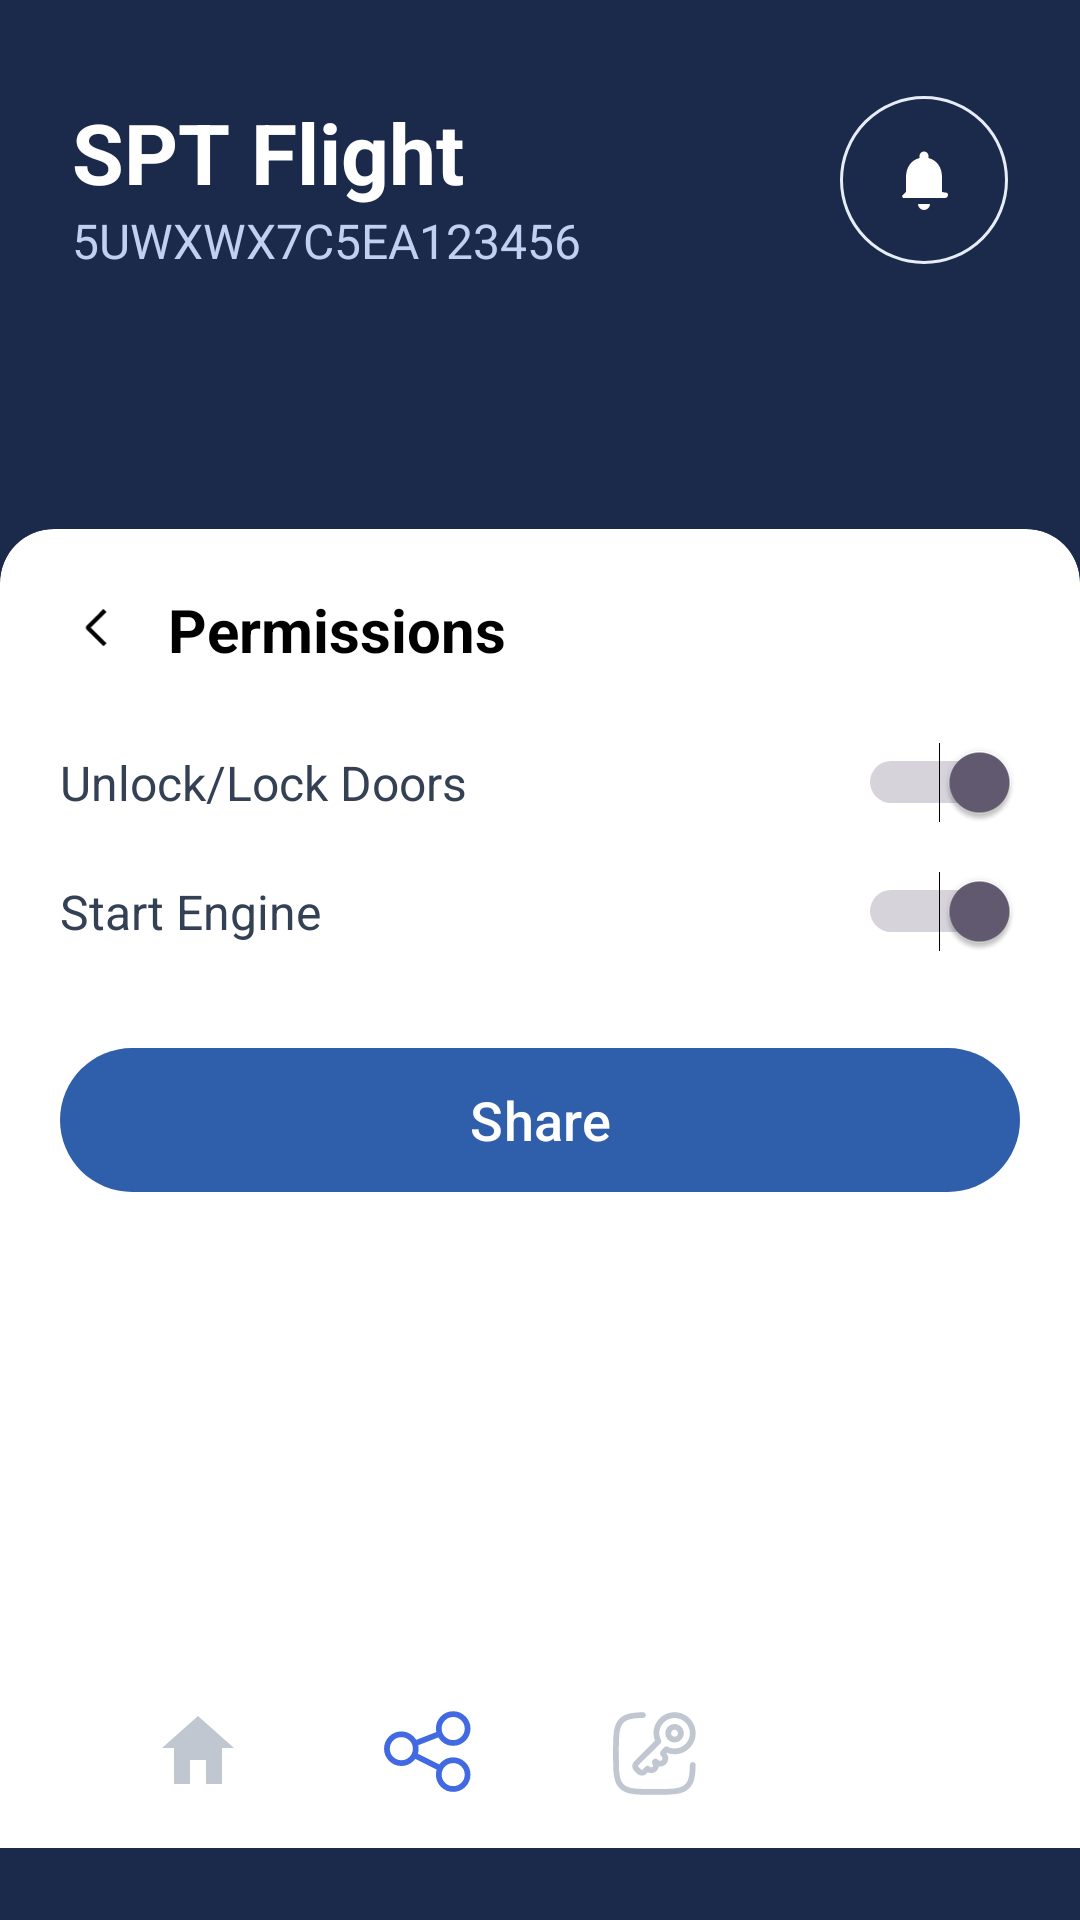

Named icons in this screenshot (1080 × 1920) and their bounding boxes, (x1, y1, x2, y2):
Back: (85, 609, 107, 646)
Home: (162, 1716, 234, 1784)
Keys: (613, 1712, 696, 1795)
Notifications: (902, 151, 948, 210)
Share: (384, 1711, 471, 1792)
